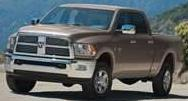front_view: (3, 28, 112, 82)
headlight: (66, 38, 104, 67)
side_glass: (106, 7, 160, 41)
